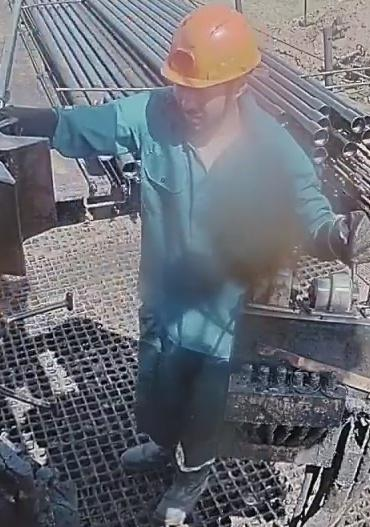gloves: (331, 209, 370, 265)
helmet: (160, 2, 261, 88)
vest: (117, 86, 317, 359)
